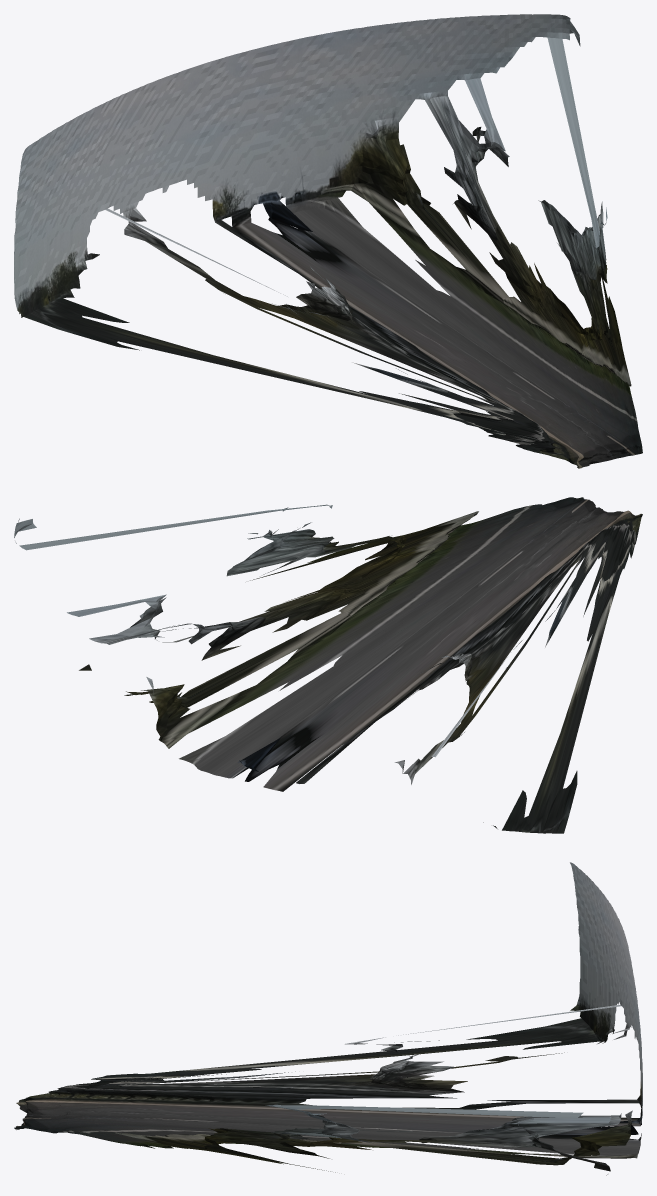
3 views of the same model, one above another, from view 1: azimuth 30°, elevation 25°; view 2: azimuth 150°, elevation 25°; view 3: azimuth 270°, elevation 25° (orthographic). The views are drawn at different scales.
Parts seen in each view (by area): view 1: defaultobject; view 2: defaultobject; view 3: defaultobject.
Boxes of the visible parts, x1,y1,x2,y2 form: defaultobject: (14, 14, 642, 468); defaultobject: (14, 497, 642, 833); defaultobject: (14, 862, 642, 1175).
Size of the model in its own units: 40.47 by 13.22 by 44.77.
Materials: 1 (1 with a texture image).
